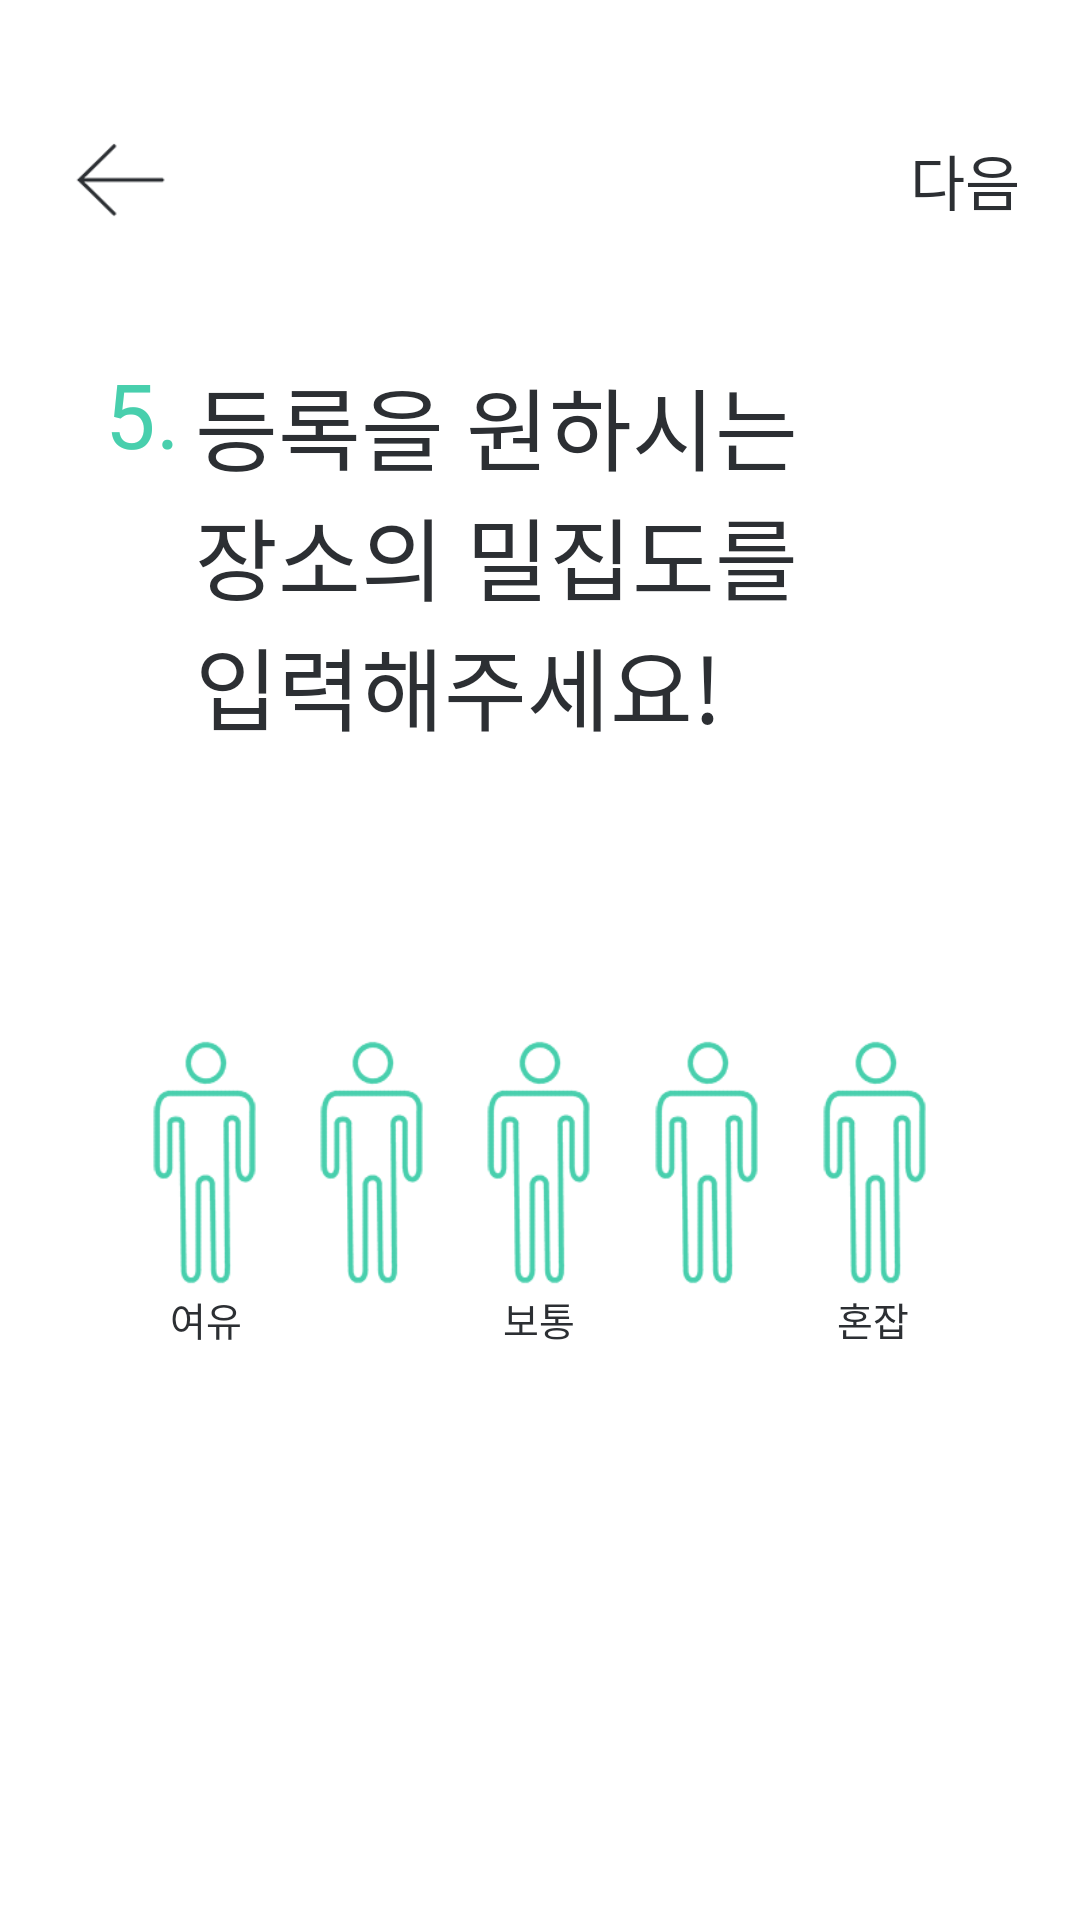

Named icons in this screenshot (1080w x 1920h) and their bounding boxes, [x1, y1, x2, y2]:
back arrow: [77, 144, 165, 216]
